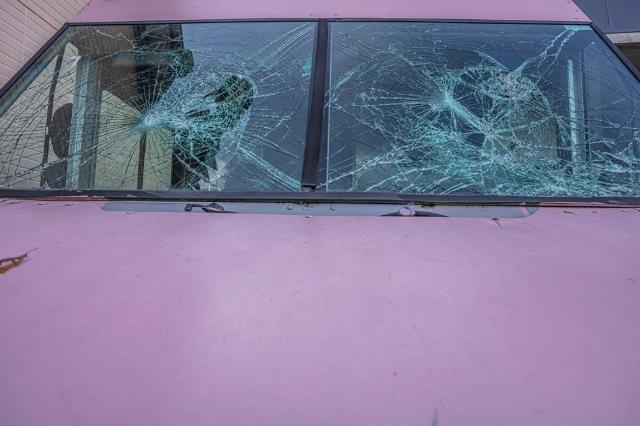glass shatter: (316, 21, 640, 199), (0, 22, 315, 192)
